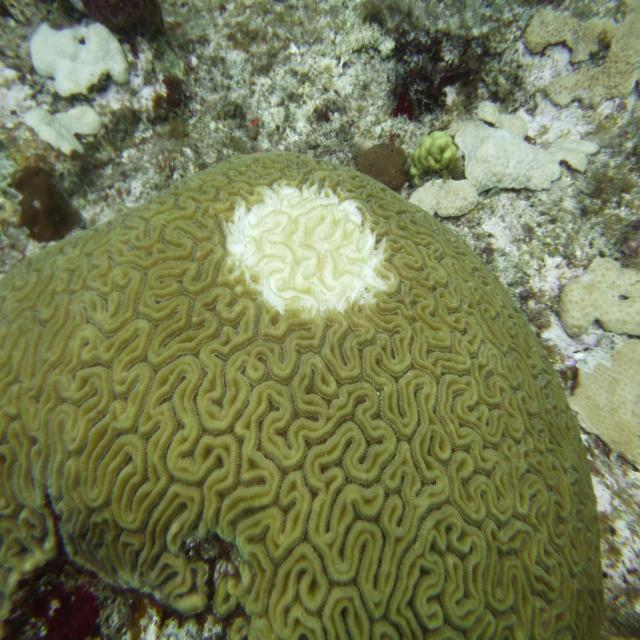Coral: (0, 148, 606, 640), (567, 336, 640, 472), (559, 255, 640, 340), (406, 129, 457, 186)
